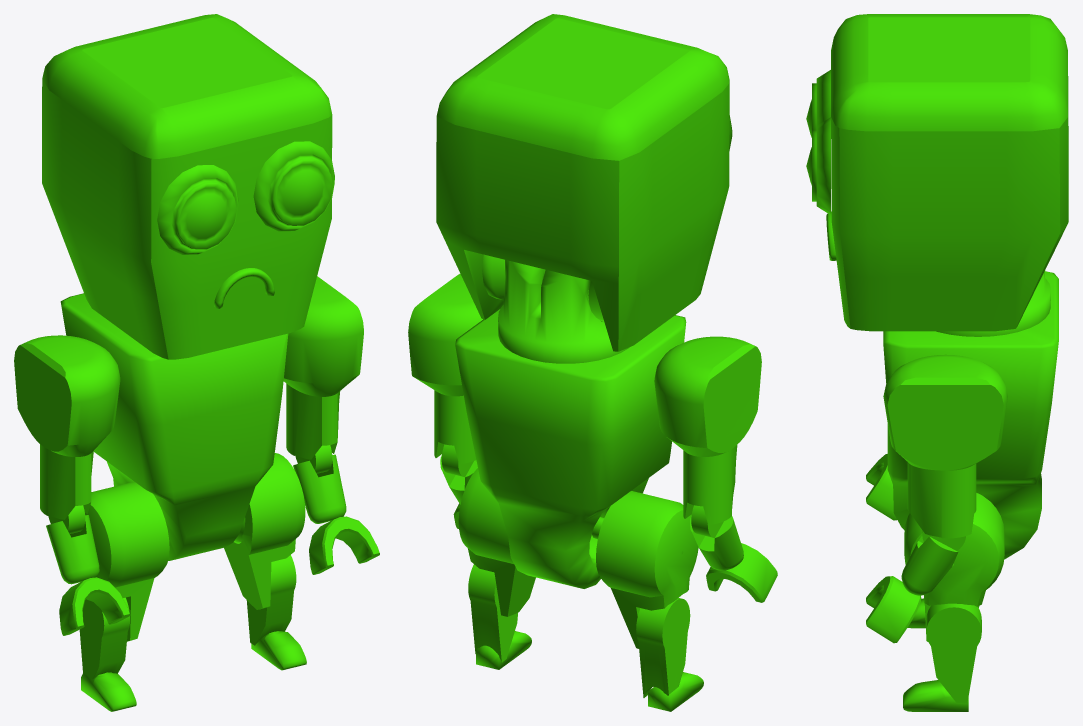
File: SM_brokenrobot.fbx
3 renders of one model, left to right at view 1: azimuth 30°, elevation 25°; view 2: azimuth 150°, elevation 25°; view 3: azimuth 270°, elevation 25°, orthographic.
Visible parts, largest first — view 1: head, body, arm_r, arm_l, leg_r, leg_l; view 2: head, body, arm_r, leg_r, arm_l, leg_l; view 3: head, arm_l, body, leg_l, arm_r.
Boxes of the visible parts, box(x1,y1,x2,y2) form: head: box(42, 14, 334, 359); body: box(60, 293, 288, 560); arm_r: box(14, 335, 130, 635); arm_l: box(283, 276, 379, 574); leg_r: box(69, 481, 169, 711); leg_l: box(224, 453, 306, 670); head: box(436, 14, 732, 351); body: box(455, 254, 686, 588); arm_r: box(654, 336, 777, 602); leg_r: box(592, 491, 703, 711); arm_l: box(408, 273, 482, 528); leg_l: box(458, 468, 535, 669); head: box(806, 14, 1068, 331); arm_l: box(866, 354, 1007, 643); body: box(883, 270, 1058, 559); leg_l: box(903, 493, 1004, 711); arm_r: box(866, 454, 897, 520).
Size of the model in its own units: 72.52 by 139 by 53.78.
